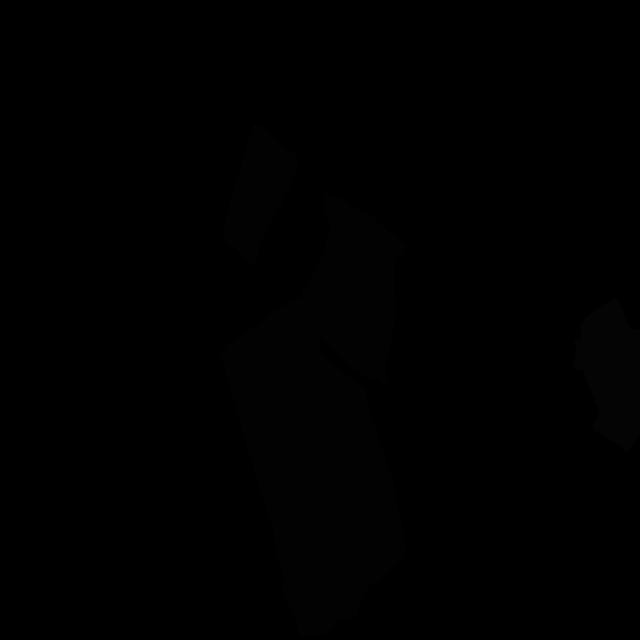cardboard: (220, 298, 406, 636), (302, 187, 406, 387), (224, 124, 300, 268)
soft_plastic: (574, 298, 640, 452)
